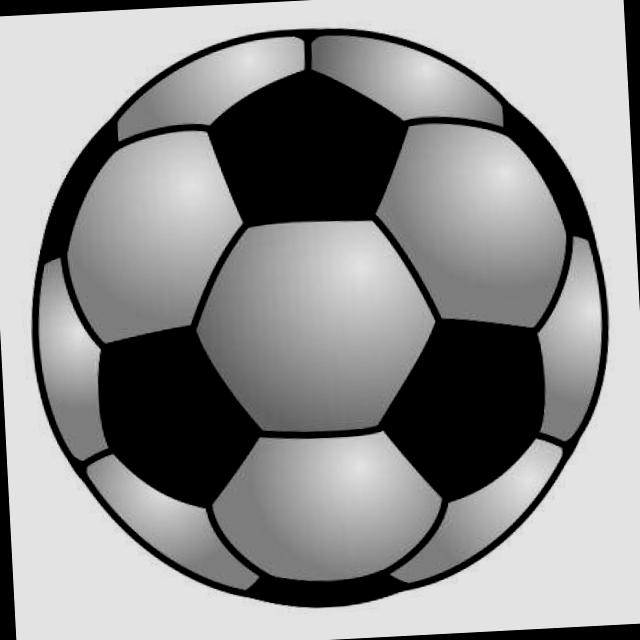Soccer Ball: (24, 16, 622, 620)
